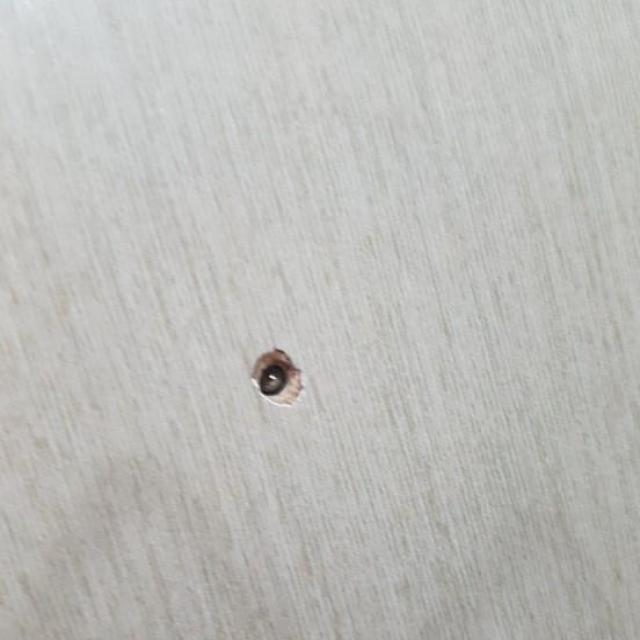hidden camera: (255, 360, 290, 397)
